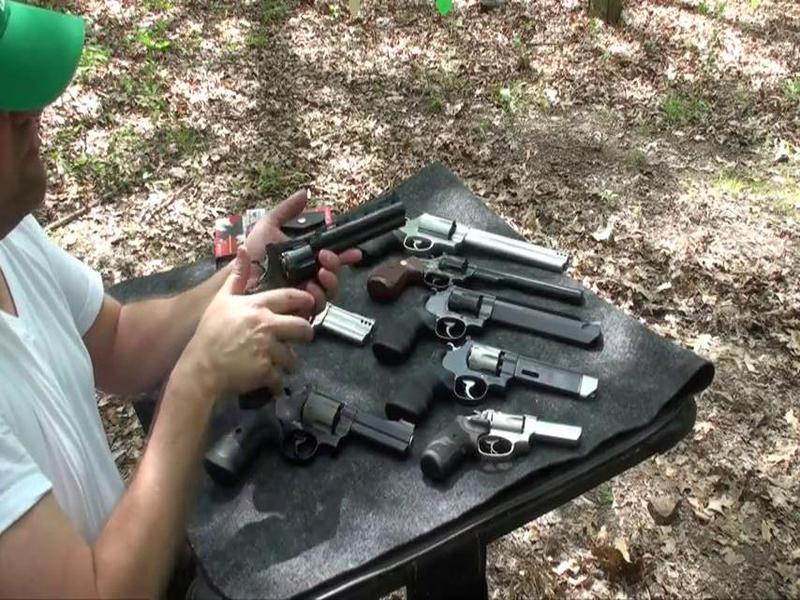Revolver: (247, 180, 418, 313)
